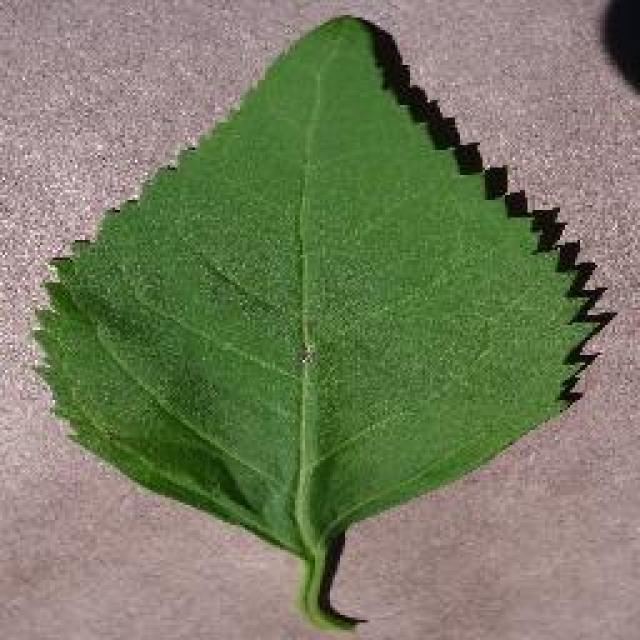Cherry___healthy: (52, 38, 553, 530)
